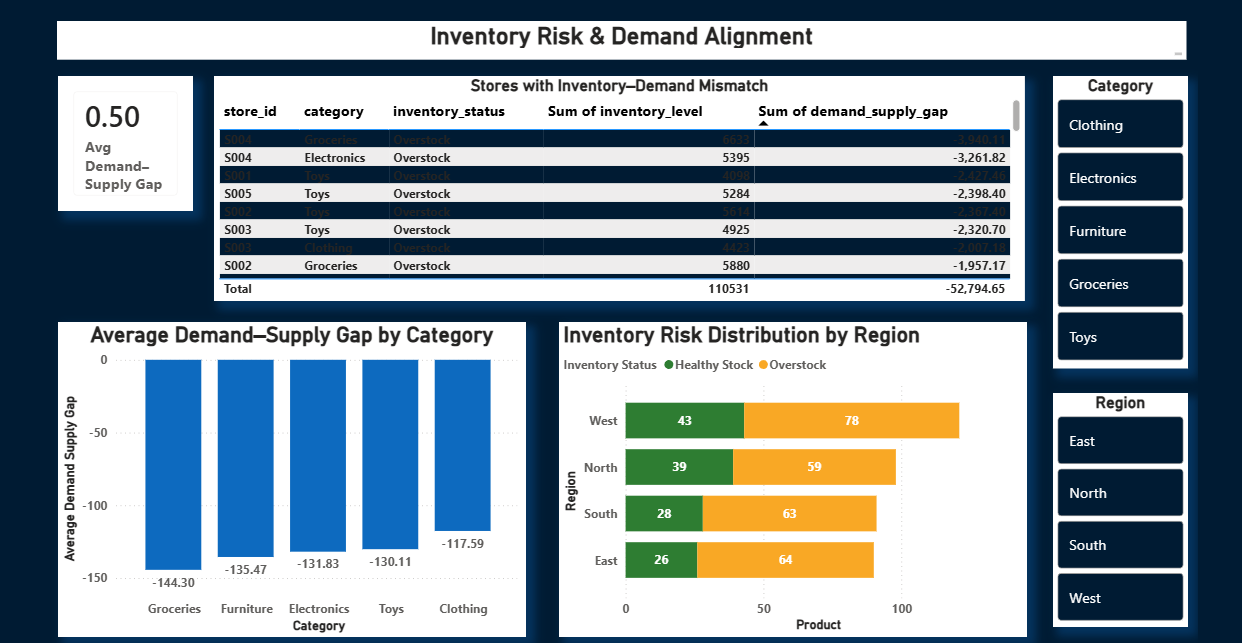

Layout of this report page (visuals, bound fields, positions):
{"tool":"powerbi","page":{"name":"Inventory Risk & Demand Alignment","canvas":[1280,720],"ordinal":1},"visuals":[{"type":"cardVisual","fields":{"Data":["bi_retail_operations_final.Average Inventory Turnover"]},"box":[13.3,73.3,150,150],"z":0},{"type":"textbox","title":"Inventory Risk & Demand Alignment","box":[12.5,11.7,1255,43.3],"z":1000},{"type":"clusteredColumnChart","title":"Average Demand–Supply Gap by Category","fields":{"Category":["bi_retail_operations_final.category"],"Y":["bi_retail_operations_final.Average Demand Supply Gap"]},"box":[13.3,346.7,520,350],"z":2000},{"type":"advancedSlicerVisual","title":"Category","fields":{"Values":["bi_retail_operations_final.category"]},"box":[1118.3,73.3,150,325],"z":3000},{"type":"advancedSlicerVisual","title":"Region","fields":{"Values":["bi_retail_operations_final.region"]},"box":[1118.3,425,150,260],"z":4000},{"type":"tableEx","title":"Stores with Inventory–Demand Mismatch","fields":{"Values":["bi_retail_operations_final.store_id","bi_retail_operations_final.category","bi_retail_operations_final.inventory_status","Sum(bi_retail_operations_final.inventory_level)","Sum(bi_retail_operations_final.demand_supply_gap)"]},"box":[186.7,73.3,901,250],"z":5000},{"type":"barChart","title":"Inventory Risk Distribution by Region","fields":{"Y":["CountNonNull(bi_retail_operations_final.product_id)"],"Category":["bi_retail_operations_final.region"],"Series":["bi_retail_operations_final.inventory_status"]},"box":[570,346.7,520,350],"z":6000}]}

Visuals, with their boxes on the page's 1280x720 design canvas (x1, y1, x2, y2). These are canvas units, not pixel positions in the 1242x643 screenshot, which may show the page scaled, cropped or inside an application window:
cardVisual - bi_retail_operations_final.Average Inventory Turnover: pyautogui.locateOnScreen(13, 73, 163, 223)
"Inventory Risk & Demand Alignment" textbox: pyautogui.locateOnScreen(12, 12, 1268, 55)
"Average Demand–Supply Gap by Category" clusteredColumnChart: pyautogui.locateOnScreen(13, 347, 533, 697)
"Category" advancedSlicerVisual: pyautogui.locateOnScreen(1118, 73, 1268, 398)
"Region" advancedSlicerVisual: pyautogui.locateOnScreen(1118, 425, 1268, 685)
"Stores with Inventory–Demand Mismatch" tableEx: pyautogui.locateOnScreen(187, 73, 1088, 323)
"Inventory Risk Distribution by Region" barChart: pyautogui.locateOnScreen(570, 347, 1090, 697)
